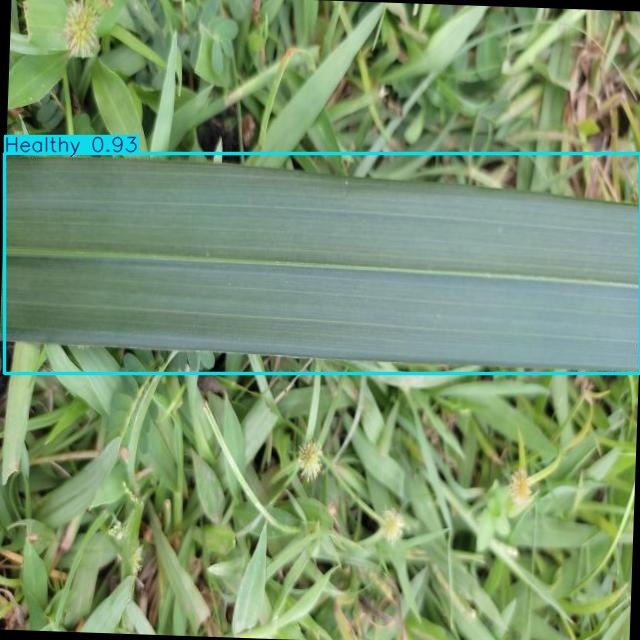Healthy: (5, 154, 640, 374)
